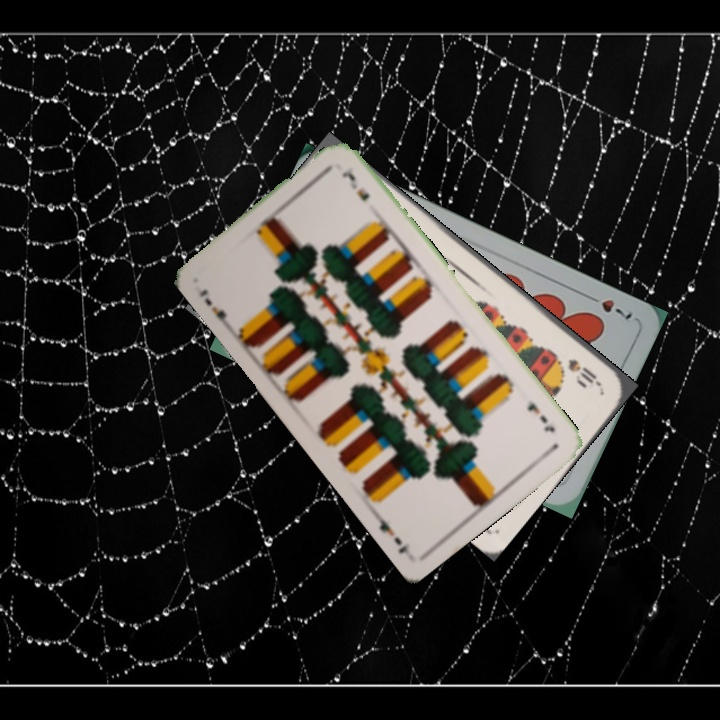E7: (195, 285, 233, 331), (523, 398, 558, 435)
H7: (581, 290, 635, 322)
S10: (563, 355, 604, 390)
